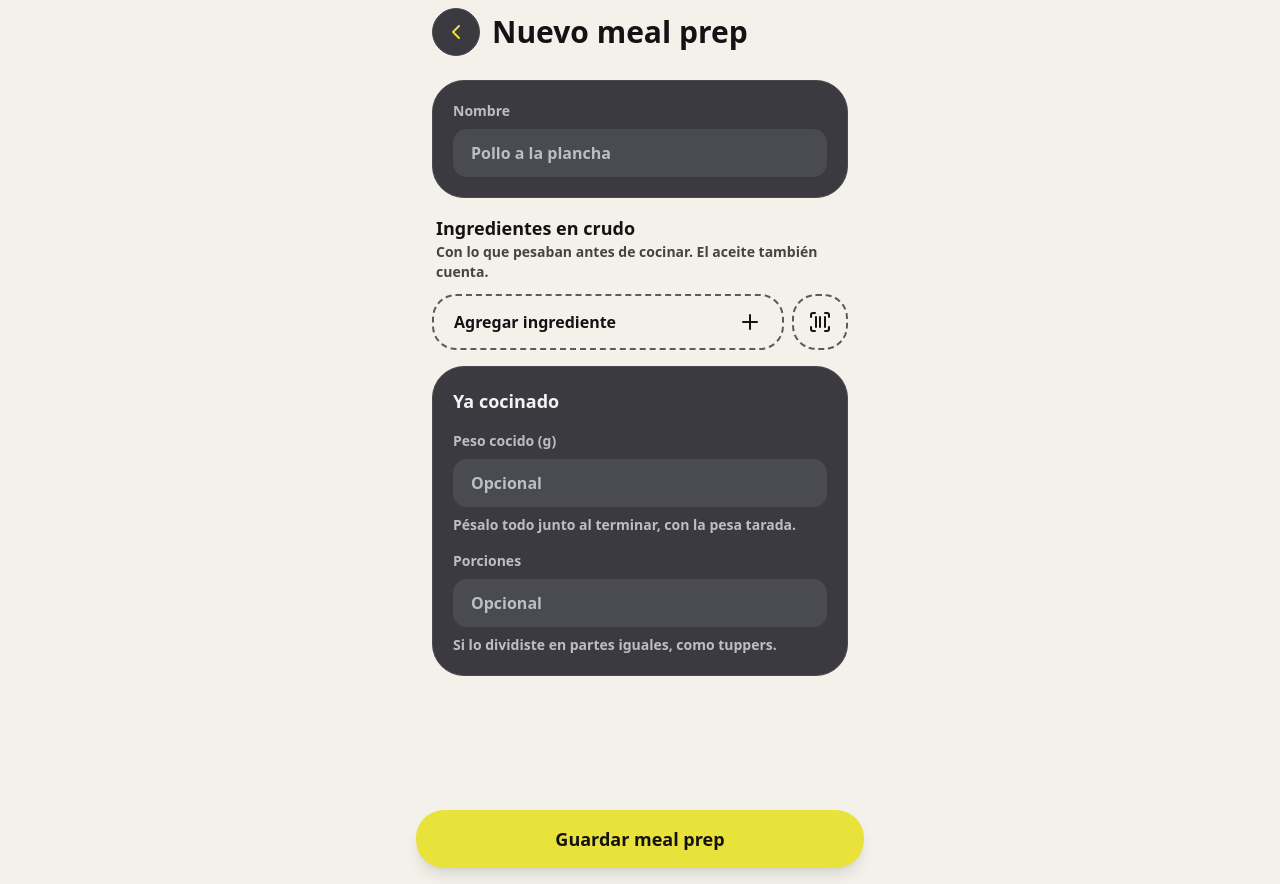
Test: NewMealPrepPage › warns when the cooked weight looks like it includes the container
Click the button "Agregar ingrediente": (608, 322) [432, 294, 784, 350]
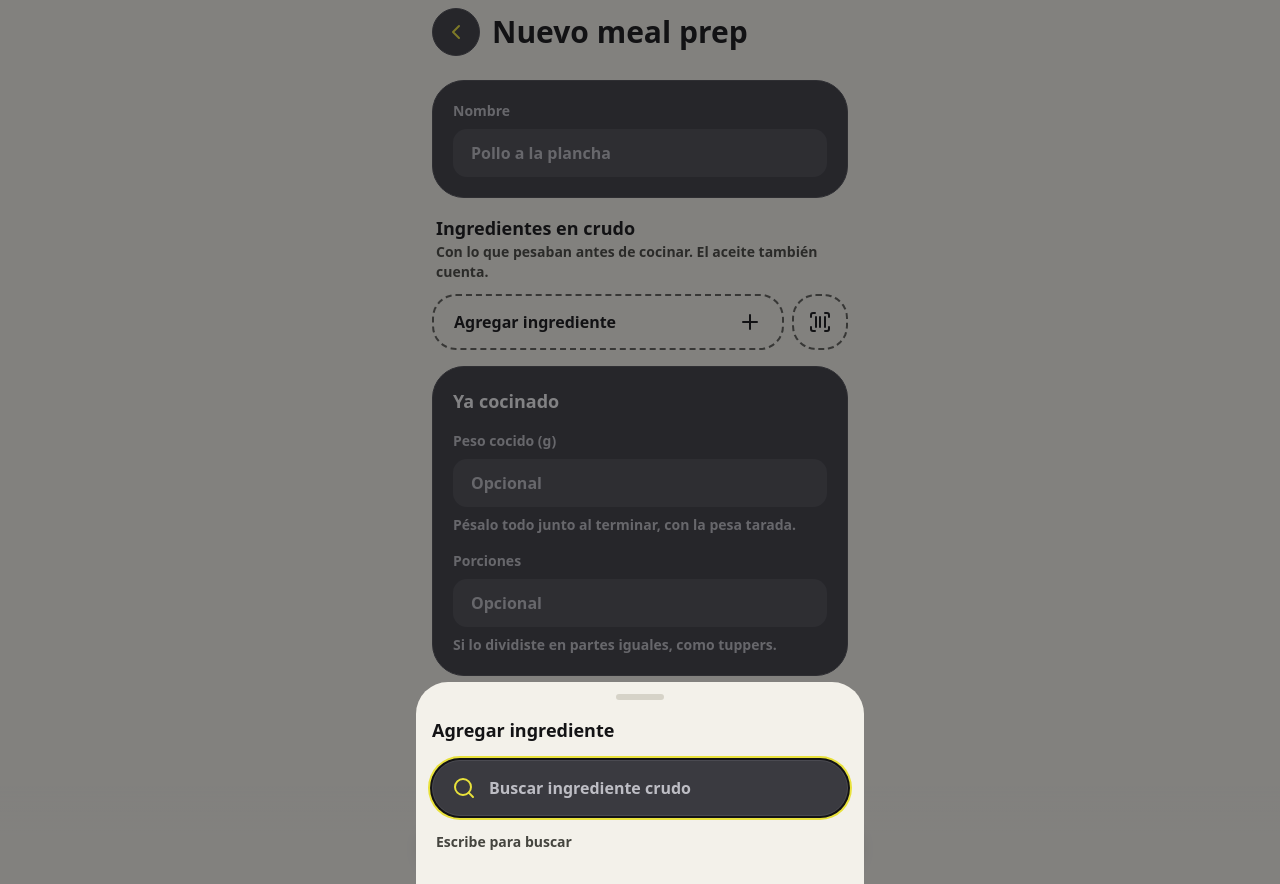
In the search field labelled "Buscar ingrediente": (640, 788) [432, 760, 848, 816], type "pechuga"
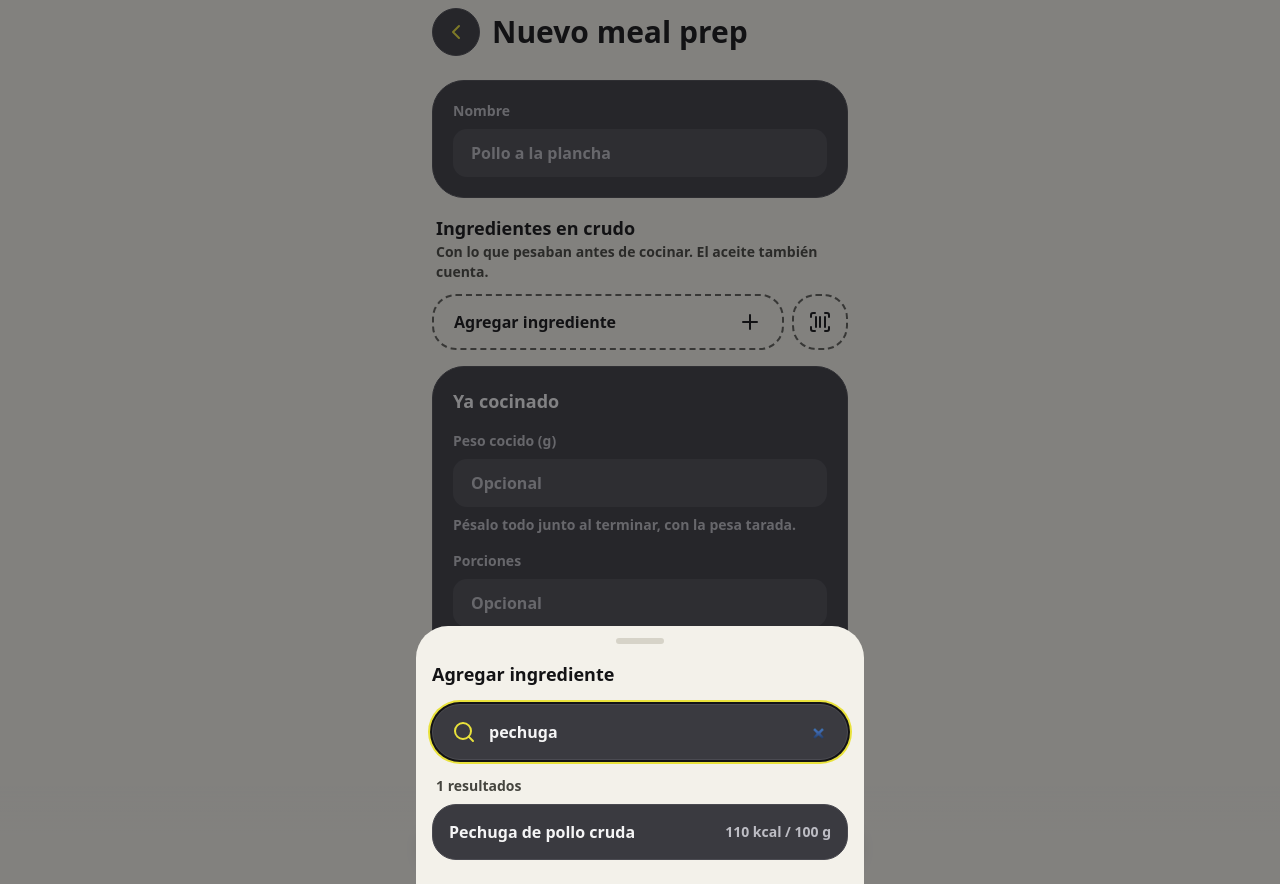
Click the button "Pechuga de pollo cruda 110 kcal / 100 g": (542, 832) [432, 804, 848, 860]
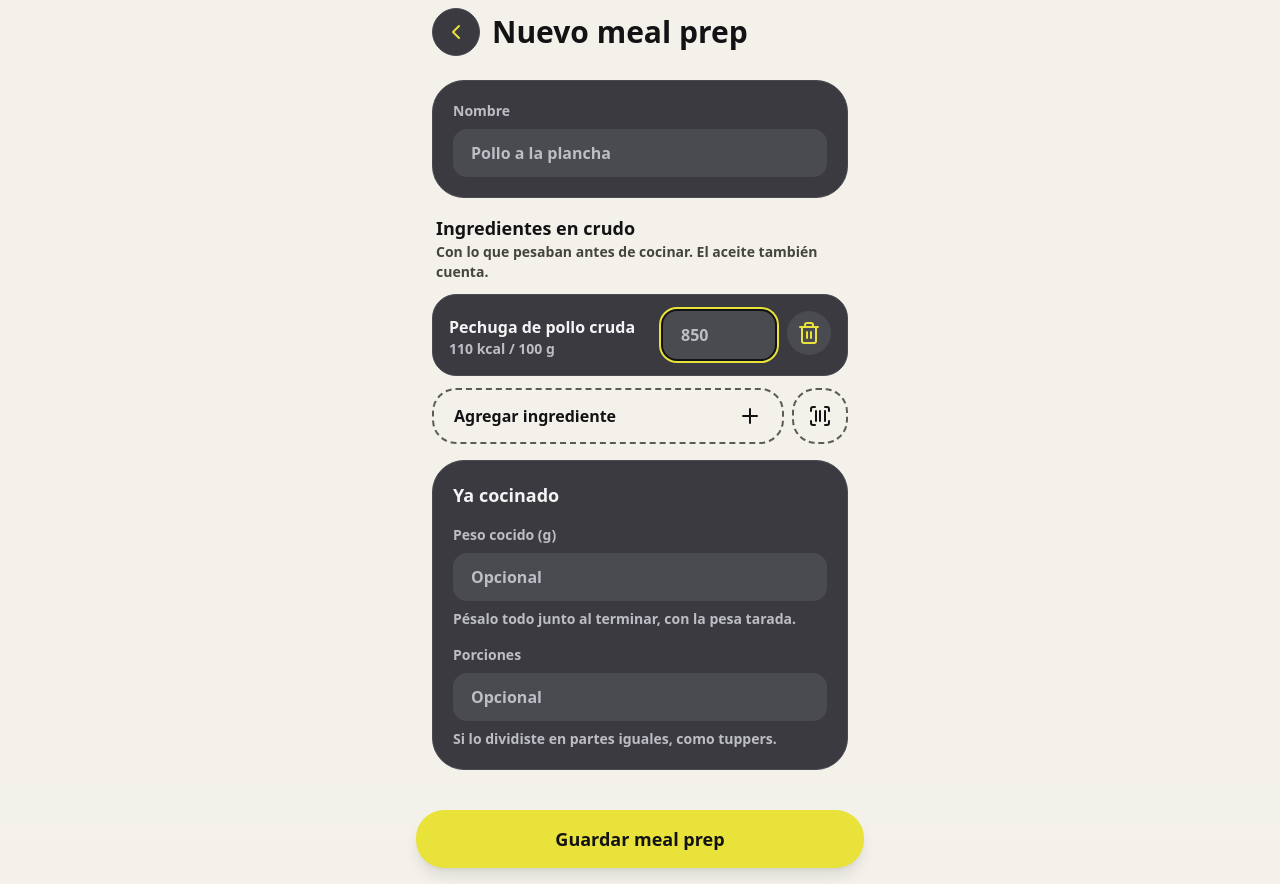
In the field named "Gramos de Pechuga de pollo cruda": (719, 335) [663, 311, 775, 359], type "500"
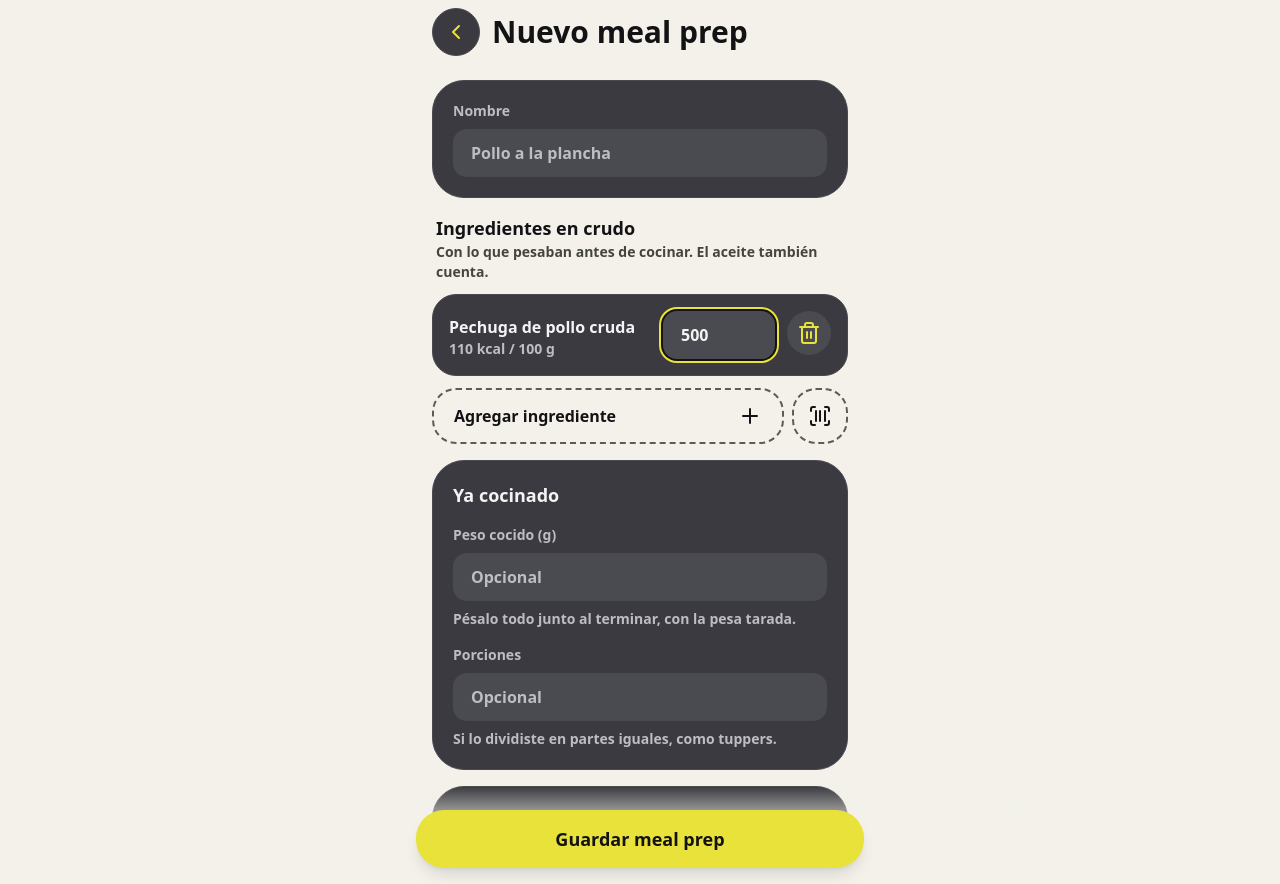
In the field labelled "Peso cocido (g)": (640, 577) [453, 553, 827, 601], type "1600"
(page scrolled)
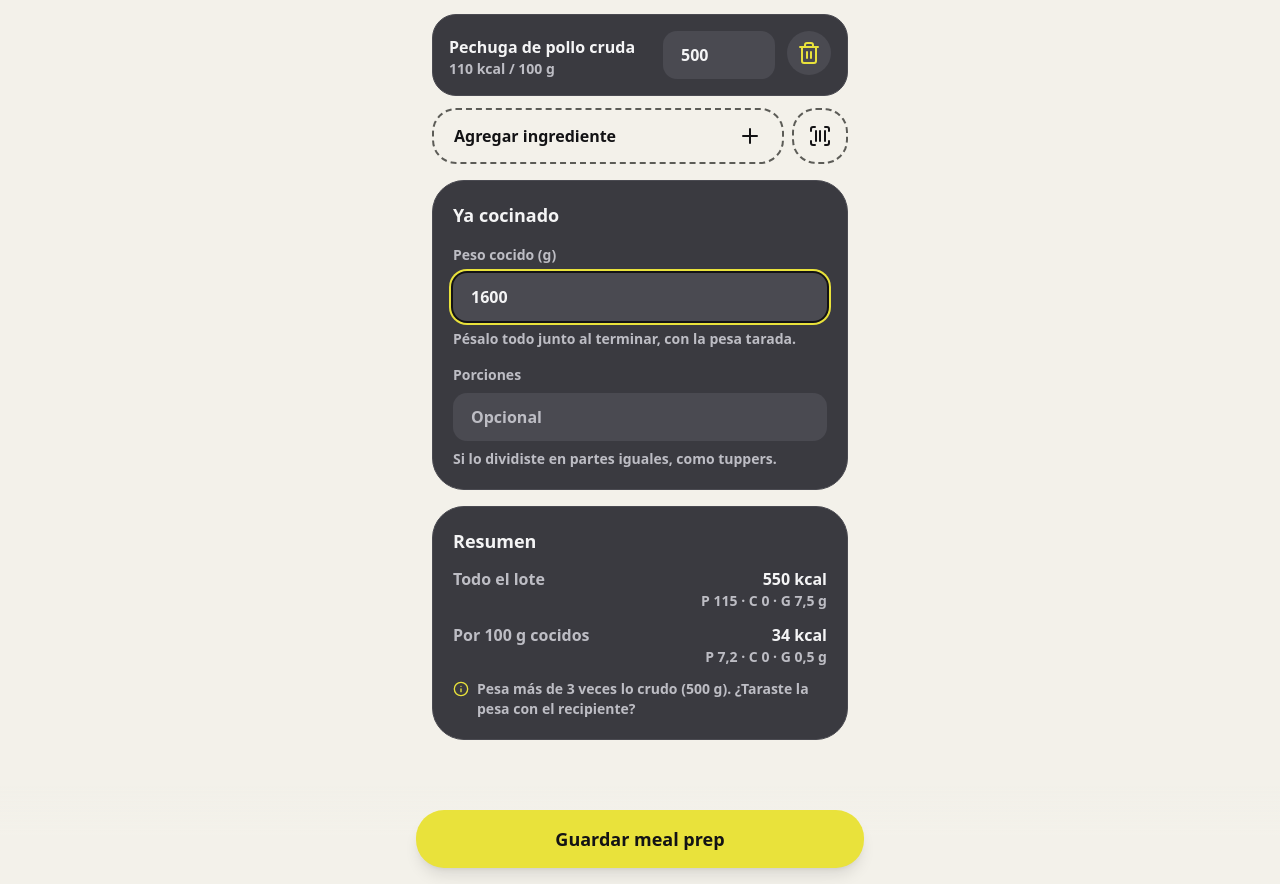
Check: the text "¿Taraste la pesa con el recipiente?" is shown, box [477, 679, 809, 718]
